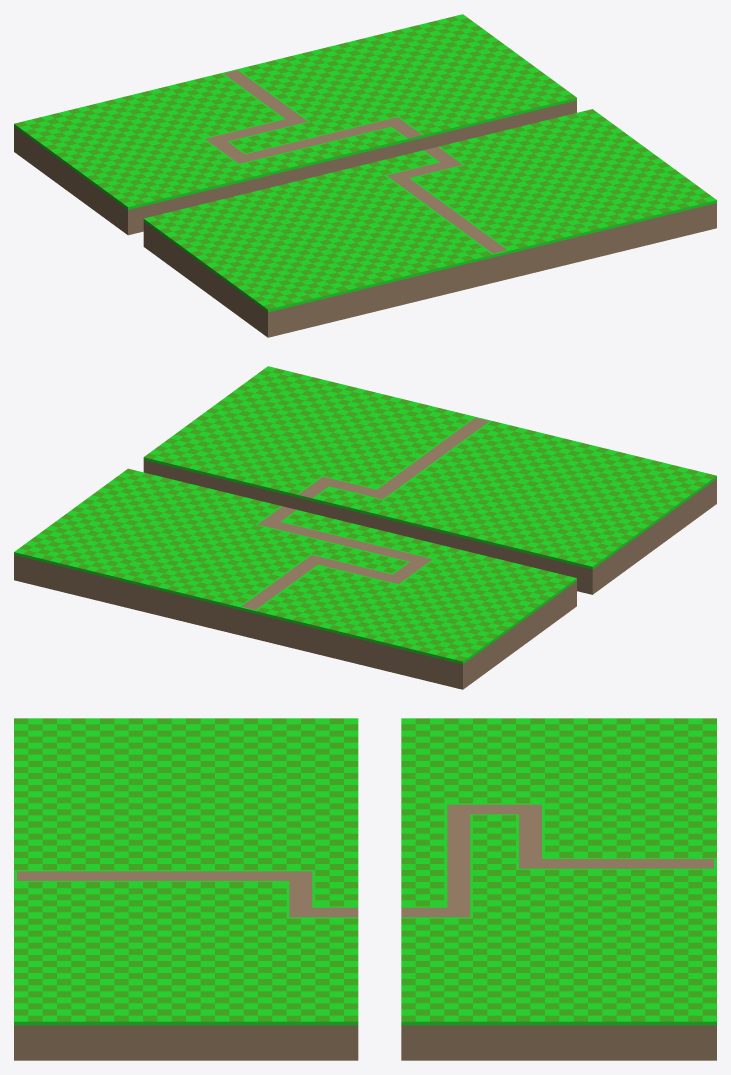
The model's file is Map 03 - 2.fbx.
3 views of the same model, one above another, from view 1: azimuth 30°, elevation 25°; view 2: azimuth 150°, elevation 25°; view 3: azimuth 270°, elevation 25° (orthographic). The views are drawn at different scales.
Parts seen in each view (by area): view 1: Plane.016; view 2: Plane.016; view 3: Plane.016.
Boxes of the visible parts, x1=… form: Plane.016: x1=14, y1=14, x2=716, y2=337; Plane.016: x1=14, y1=366, x2=716, y2=689; Plane.016: x1=14, y1=718, x2=716, y2=1060.
Bounding box in the file's own units: 500 × 30 × 490.
